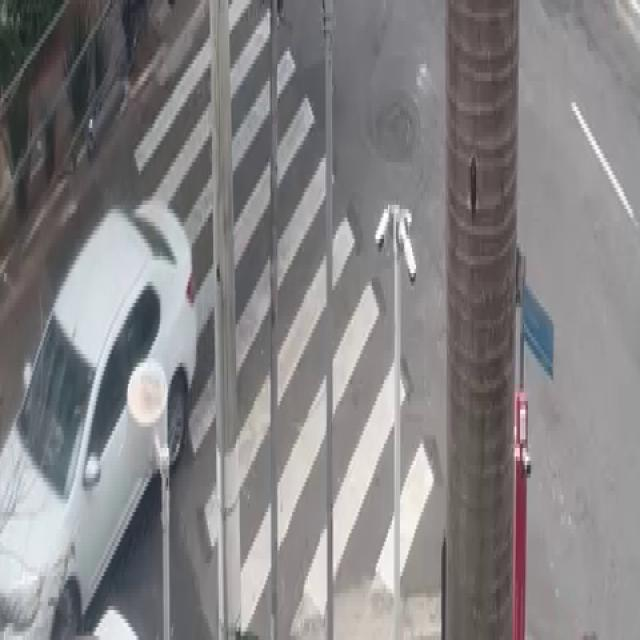car: (0, 234, 207, 640)
